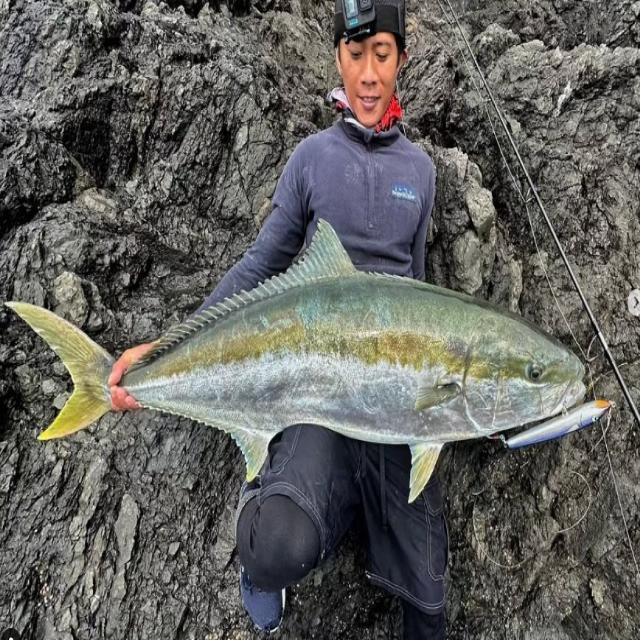Kingfish: (1, 213, 592, 508)
